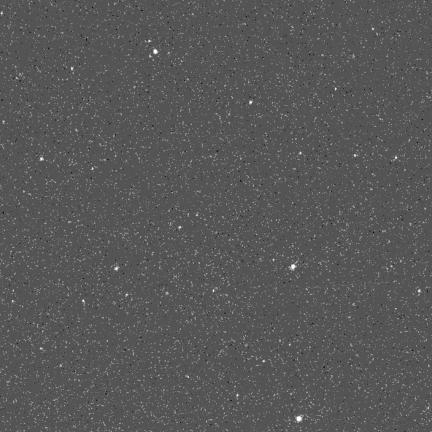blob: (291, 264, 297, 271), (296, 416, 302, 422), (115, 266, 120, 271), (154, 49, 158, 54), (249, 100, 253, 105), (40, 157, 43, 160)
